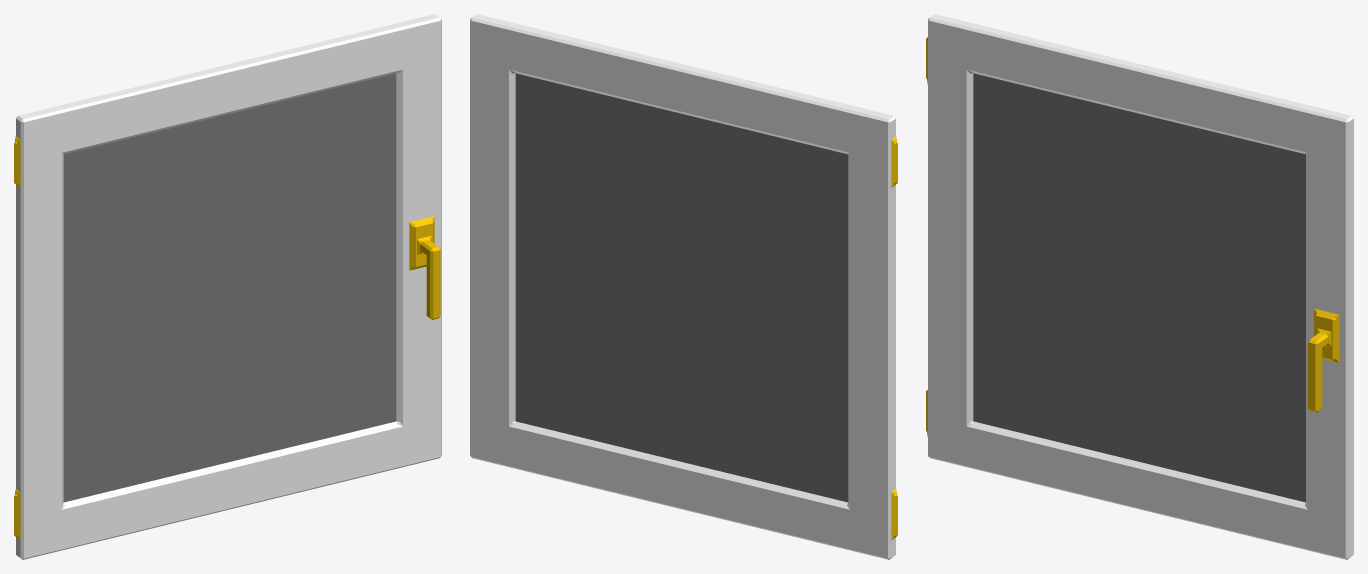
3 renders of one model, left to right at view 1: azimuth 30°, elevation 25°; view 2: azimuth 150°, elevation 25°; view 3: azimuth 330°, elevation 25°, orthographic.
Parts seen in each view (by area): view 1: Cube; view 2: Cube; view 3: Cube.
Part boxes in pixels (<box>): Cube: <box>14,14,441,559</box>; Cube: <box>470,14,897,559</box>; Cube: <box>926,14,1353,559</box>.
Size of the model in its own units: 101 by 100 by 9.
